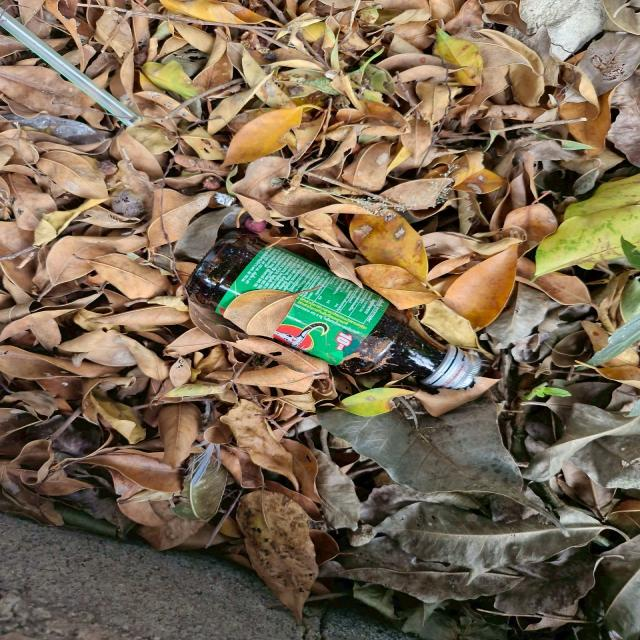glass bottle: (170, 230, 488, 392)
